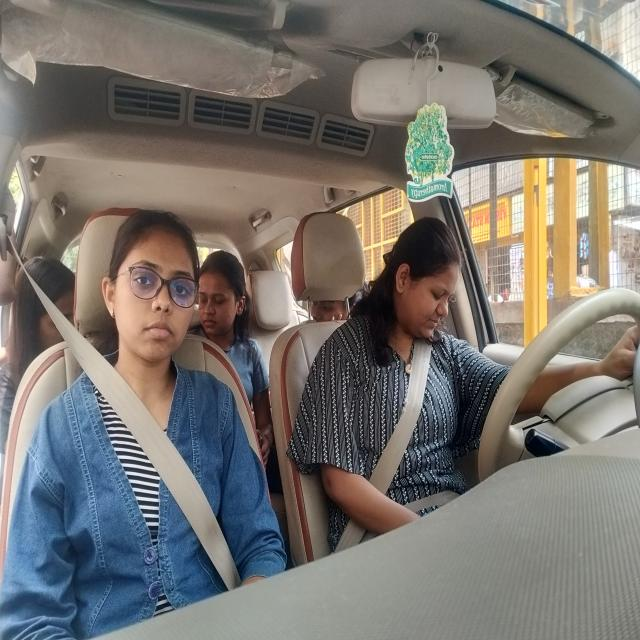drowsy: (382, 214, 462, 353)
person: (104, 210, 197, 362), (13, 256, 81, 367), (199, 250, 249, 345)
